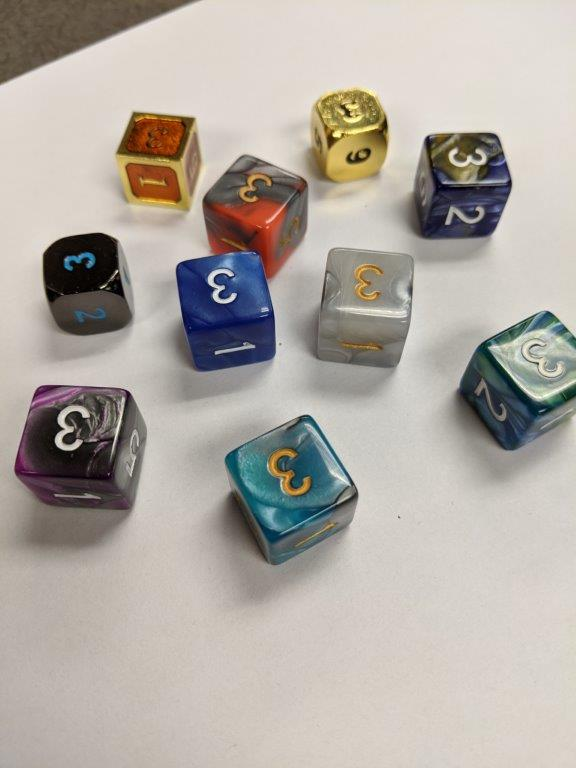d6-3: (222, 413, 358, 567), (12, 383, 144, 508), (461, 312, 576, 444), (174, 250, 282, 372), (201, 152, 309, 270), (313, 246, 417, 364), (412, 129, 511, 241), (39, 236, 138, 336), (115, 110, 202, 213), (310, 88, 388, 186)
